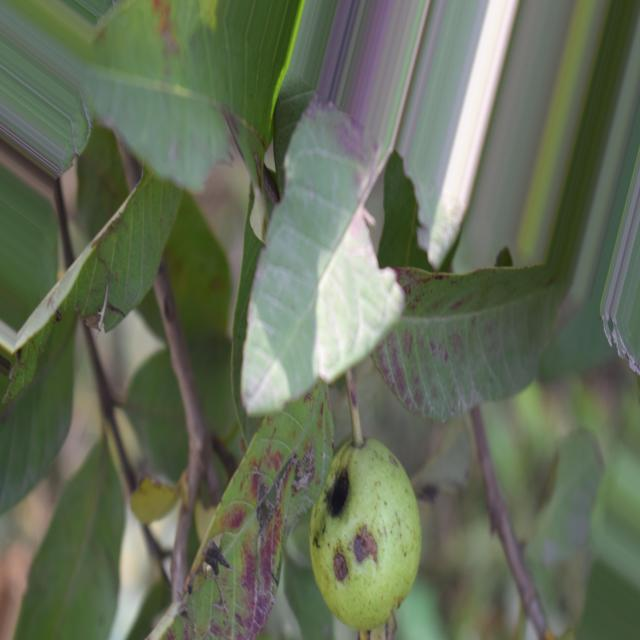Canker: (241, 98, 404, 414), (150, 381, 334, 639), (5, 171, 182, 401)
